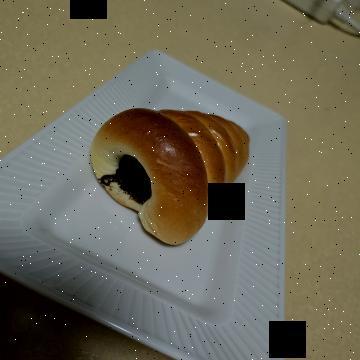cream horn: (92, 115, 264, 293)
